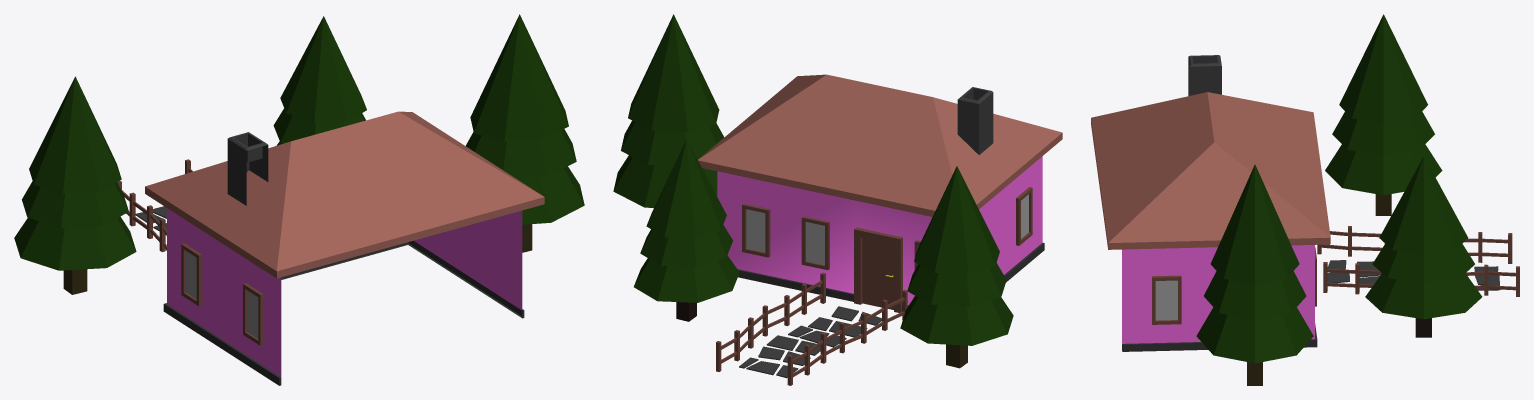
Rendered from revampedHouseVar3.fbx.
The picture shows the model from 3 angles, left to right: view 1: azimuth 30°, elevation 25°; view 2: azimuth 150°, elevation 25°; view 3: azimuth 270°, elevation 25°; orthographic projection. The views are drawn at different scales.
Visible parts, largest first — view 1: Roof, Tree1, Walls, Tree3, Tree2, WallFrame, Chimney, WindowFrames, Window, FenceRight; view 2: Roof, Walls, Tree1, Tree3, Tree2, Door, WindowFrames, Chimney, FenceRight, FenceLeft, Window, WallFrame (+6 smaller); view 3: Roof, Tree3, Tree1, Tree2, Walls, Chimney, FenceLeft, FenceRight, Window, WallFrame, WindowFrames, Stone1 (+2 smaller).
Boxes of the visible parts, x1=… form: Roof: x1=145, y1=111, x2=544, y2=278; Tree1: x1=14, y1=76, x2=136, y2=294; Walls: x1=167, y1=208, x2=522, y2=377; Tree3: x1=466, y1=14, x2=584, y2=252; Tree2: x1=273, y1=16, x2=366, y2=145; WallFrame: x1=163, y1=240, x2=524, y2=385; Chimney: x1=227, y1=132, x2=268, y2=205; WindowFrames: x1=181, y1=243, x2=263, y2=345; Window: x1=185, y1=251, x2=258, y2=338; FenceRight: x1=117, y1=180, x2=166, y2=252; Roof: x1=698, y1=74, x2=1062, y2=216; Walls: x1=717, y1=156, x2=1042, y2=305; Tree1: x1=900, y1=166, x2=1013, y2=368; Tree3: x1=613, y1=14, x2=724, y2=207; Tree2: x1=634, y1=139, x2=739, y2=321; Door: x1=854, y1=227, x2=902, y2=312; WindowFrames: x1=742, y1=187, x2=1032, y2=270; Chimney: x1=957, y1=87, x2=993, y2=154; FenceRight: x1=787, y1=289, x2=907, y2=385; FenceLeft: x1=716, y1=272, x2=825, y2=371; Window: x1=746, y1=194, x2=1028, y2=264; WallFrame: x1=737, y1=242, x2=1044, y2=311; Roof: x1=1091, y1=92, x2=1330, y2=249; Tree3: x1=1196, y1=164, x2=1313, y2=385; Tree1: x1=1325, y1=14, x2=1442, y2=215; Tree2: x1=1365, y1=156, x2=1482, y2=337; Walls: x1=1122, y1=245, x2=1314, y2=343; Chimney: x1=1188, y1=55, x2=1221, y2=95; FenceLeft: x1=1323, y1=262, x2=1519, y2=296; FenceRight: x1=1317, y1=226, x2=1512, y2=263; Window: x1=1155, y1=280, x2=1177, y2=320; WallFrame: x1=1122, y1=323, x2=1317, y2=351; WindowFrames: x1=1152, y1=247, x2=1316, y2=324; Stone1: x1=1327, y1=260, x2=1349, y2=282.
Size of the model in its own units: 654 by 300 by 534.
